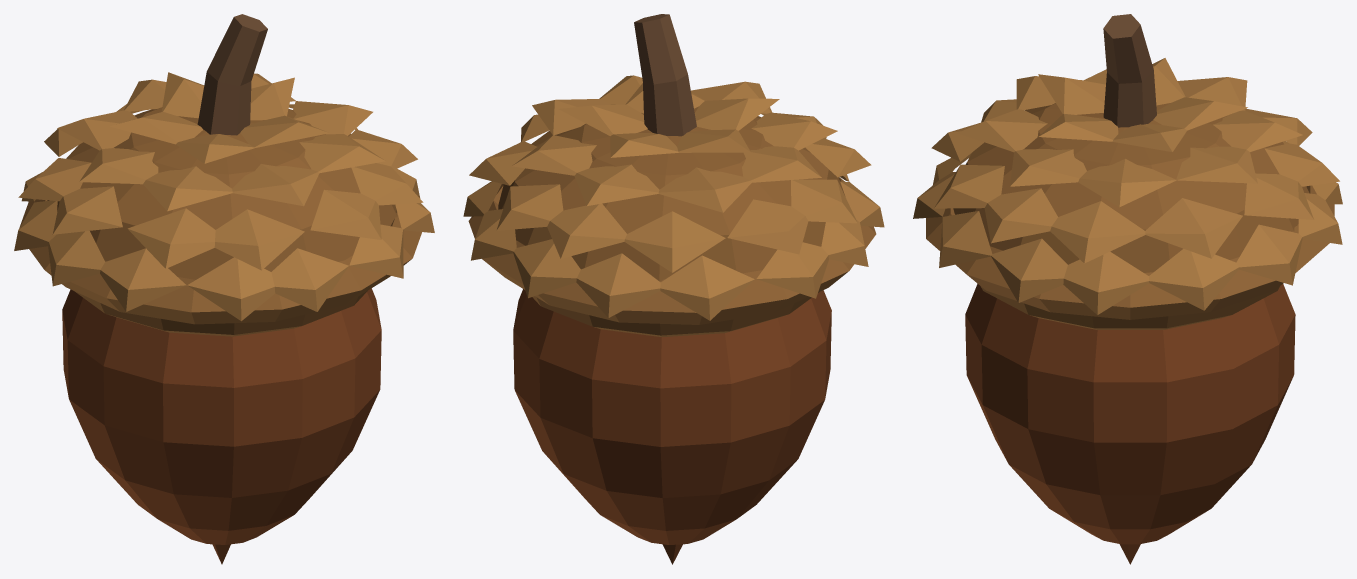
File: acorn.glb
3 views of the same model, side by side, from view 1: azimuth 30°, elevation 25°; view 2: azimuth 150°, elevation 25°; view 3: azimuth 270°, elevation 25° (orthographic). The views are drawn at different scales.
Parts seen in each view (by area): view 1: Acorn; view 2: Acorn; view 3: Acorn.
Part boxes in pixels (x1,y1,x2,y2): Acorn: (14,14,434,564); Acorn: (463,14,884,564); Acorn: (913,14,1342,564).
Bounding box in the file's own units: 0.5142 × 0.733 × 0.5128.
